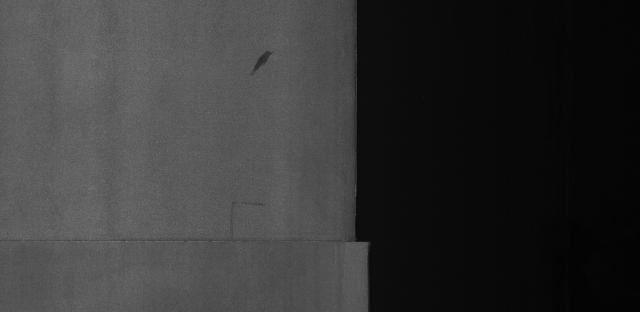welding_line: (2, 230, 378, 255)
